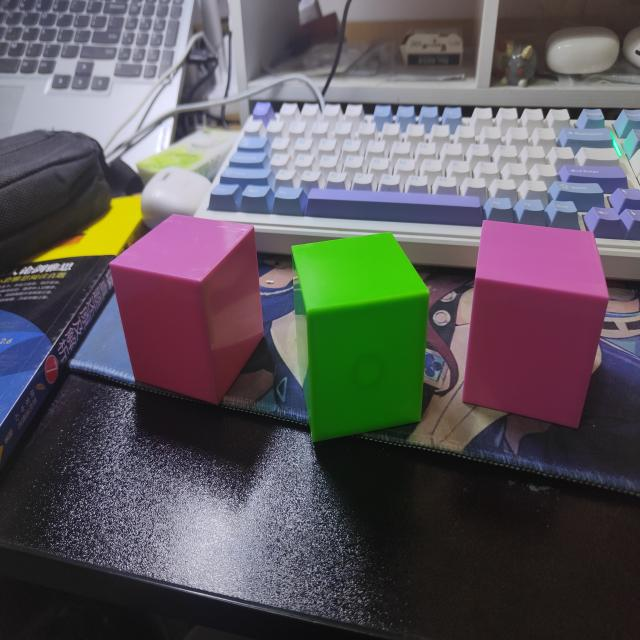green: (291, 230, 432, 447)
pink: (109, 212, 266, 407), (464, 221, 611, 428)
